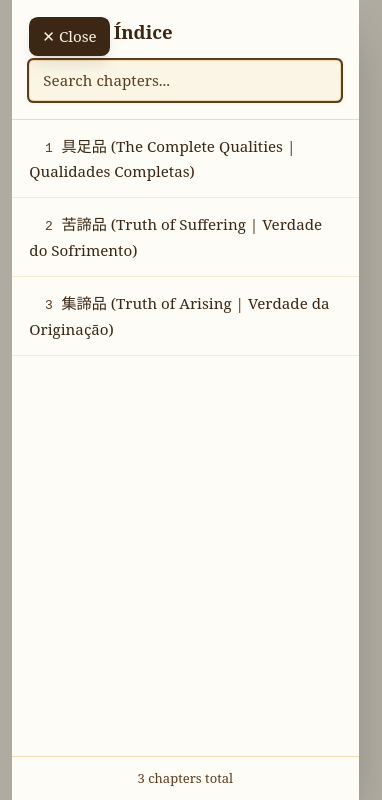
Test case: ChapterIndex › filters chapters by search
In the field with placeholder "Search chapters...": (185, 81) [29, 60, 341, 101], type "苦"
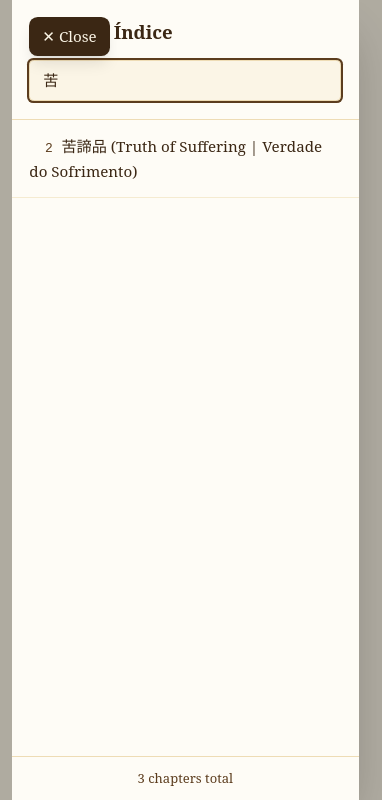
Expected: the text "苦諦品 (Truth of Suffering | Verdade do Sofrimento)" is shown, [29, 136, 322, 182]
Expected: the button "集諦品" is gone
